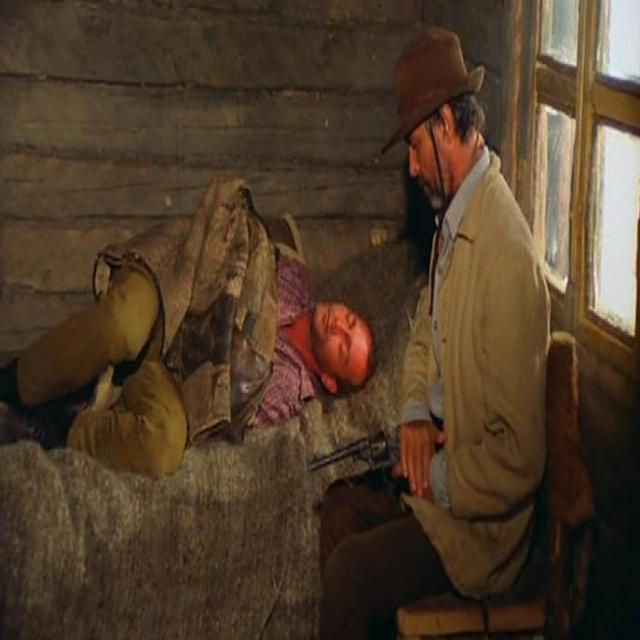gun-knife-thesis - v11 Yolov5 augmented: (302, 417, 432, 510)
